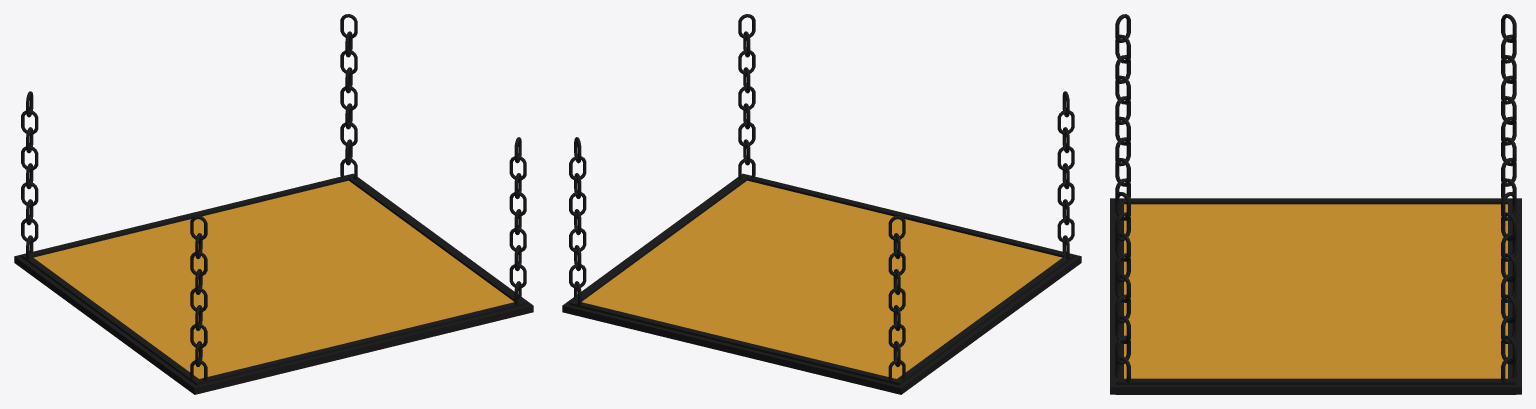
Rendered from Plataform1 1.fbx.
The picture shows the model from 3 angles, left to right: view 1: azimuth 30°, elevation 25°; view 2: azimuth 150°, elevation 25°; view 3: azimuth 270°, elevation 25°; orthographic projection. The views are drawn at different scales.
Visible parts, largest first — view 1: Torus015; view 2: Torus015; view 3: Torus015.
Part boxes in pixels (x1,y1,x2,y2): Torus015: (14, 14, 533, 394); Torus015: (562, 14, 1081, 394); Torus015: (1110, 14, 1521, 394).
Bounding box in the file's own units: 126 × 62.13 × 116.
